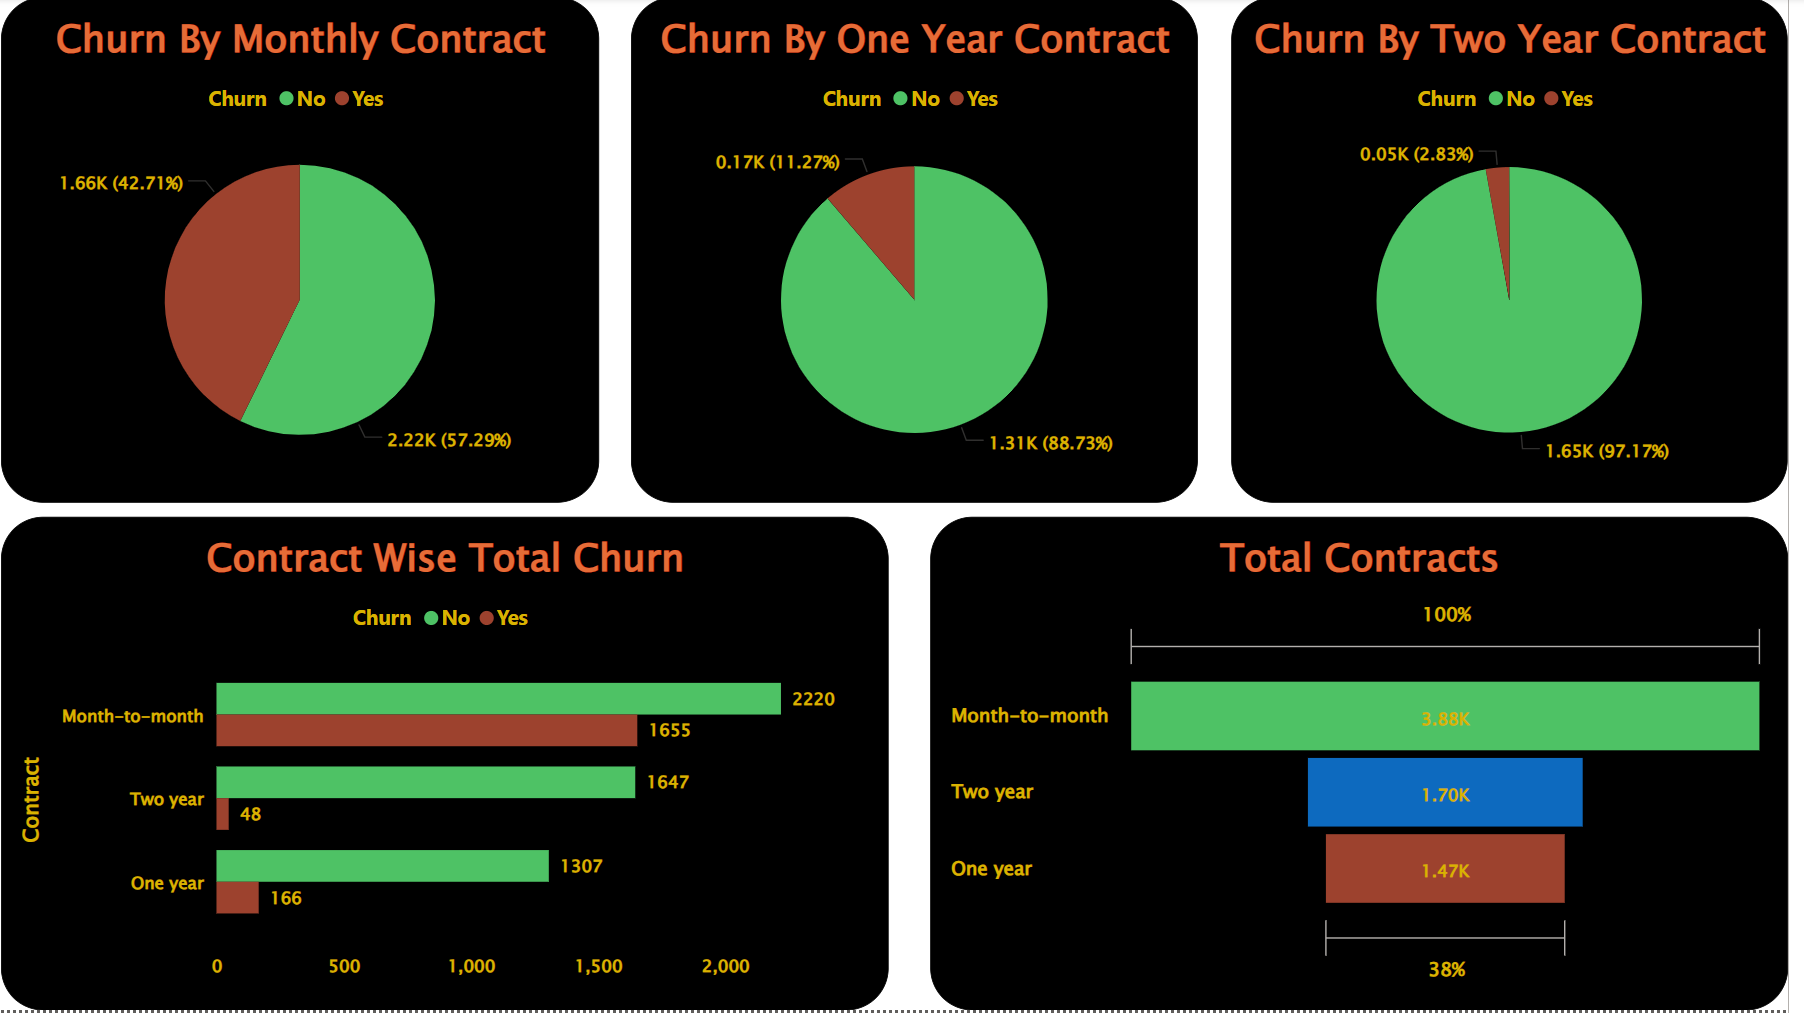

What the dashboard file says about the page in this screenshot:
{"tool":"powerbi","page":{"name":"Page 3","canvas":[1280,720],"ordinal":2},"visuals":[{"type":"pieChart","title":"Churn By Monthly Contract","fields":{"Y":["CountNonNull(Cutomer_churn_analysis.Contract)"],"Category":["Cutomer_churn_analysis.Churn"]},"box":[10.4,0,425.1,359.7],"z":0},{"type":"pieChart","title":"Churn By One Year Contract","fields":{"Y":["CountNonNull(Cutomer_churn_analysis.Contract)"],"Category":["Cutomer_churn_analysis.Churn"]},"box":[457.7,0,403,359.4],"z":1},{"type":"pieChart","title":"Churn By Two Year Contract","fields":{"Y":["CountNonNull(Cutomer_churn_analysis.Contract)"],"Category":["Cutomer_churn_analysis.Churn"]},"box":[884.4,0,395.4,359.7],"z":2},{"type":"clusteredBarChart","title":"Contract Wise Total Churn","fields":{"Category":["Cutomer_churn_analysis.Contract"],"Y":["CountNonNull(Cutomer_churn_analysis.Churn)"],"Series":["Cutomer_churn_analysis.Churn"]},"box":[10,369.4,630.6,350.7],"z":3},{"type":"funnel","title":"Total Contracts","fields":{"Category":["Cutomer_churn_analysis.Contract"],"Y":["CountNonNull(Cutomer_churn_analysis.Churn)"]},"box":[670.4,369.4,609.4,350.7],"z":4}]}

Visuals, with their boxes in screenshot pixels (x1, y1, x2, y2), scaled from the page's 1280x720 canvas onto the 1804x1013 screenshot:
"Churn By Monthly Contract" pieChart: Rect(15, 0, 614, 506)
"Churn By One Year Contract" pieChart: Rect(645, 0, 1213, 506)
"Churn By Two Year Contract" pieChart: Rect(1246, 0, 1803, 506)
"Contract Wise Total Churn" clusteredBarChart: Rect(14, 520, 903, 1012)
"Total Contracts" funnel: Rect(945, 520, 1803, 1012)
